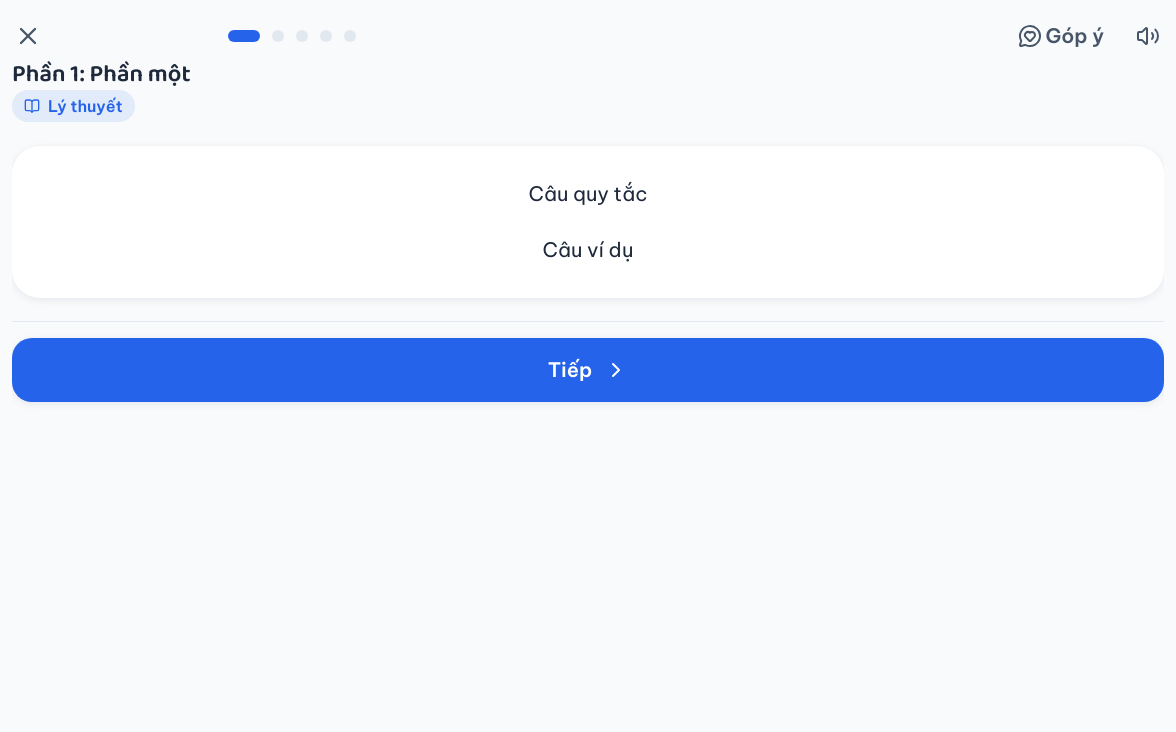
Test: SectionPlayer › shows a group of blocks on one screen and counts it as one step
expect the text "Câu quy tắc" is shown: met, box [528,178,648,210]
expect the text "Câu ví dụ" is shown: met, box [542,234,634,266]
Click the button "Tiếp".
click(588, 370)  # box [12,338,1164,402]
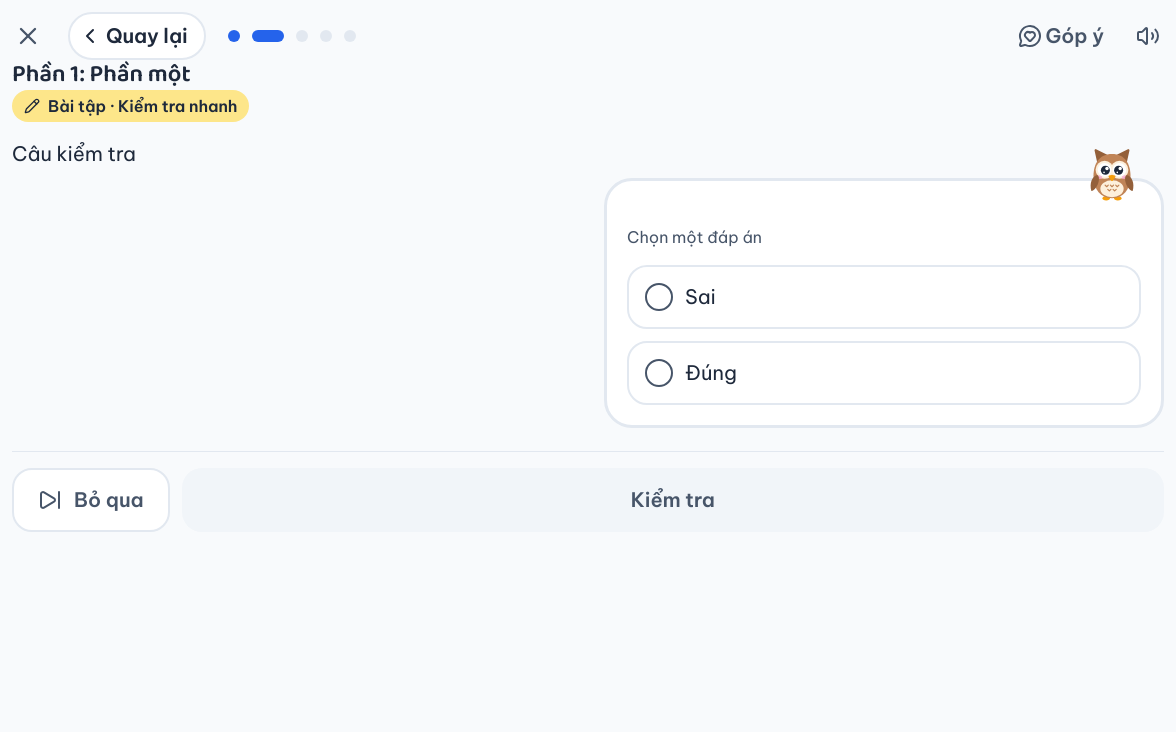
expect the text "Bài tập · Kiểm tra nhanh" is shown: met, box [12,90,250,122]
